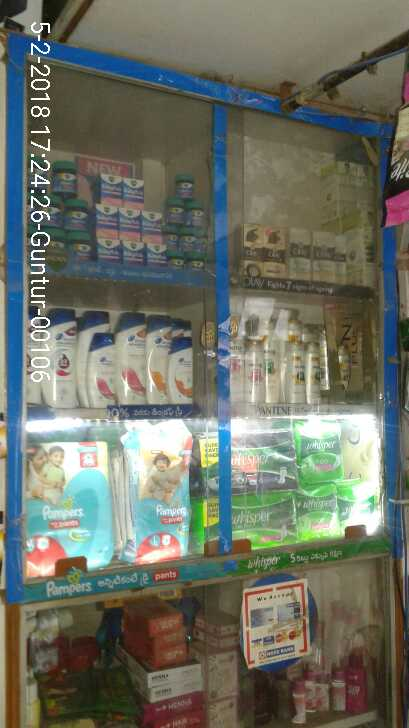beauty: (261, 222, 284, 280), (286, 339, 307, 402), (262, 337, 282, 403), (313, 227, 335, 284), (243, 343, 262, 406), (238, 219, 259, 274), (288, 228, 310, 280), (305, 342, 322, 402)
pharmacy: (25, 430, 109, 577), (126, 413, 194, 562), (231, 429, 298, 488), (230, 495, 296, 545), (294, 421, 346, 480), (296, 486, 339, 536), (45, 159, 77, 192), (95, 170, 121, 206), (65, 232, 93, 265), (95, 237, 123, 265), (139, 210, 162, 244), (96, 205, 119, 239), (119, 208, 142, 241), (65, 203, 89, 234), (174, 172, 197, 202), (181, 203, 207, 229), (122, 173, 143, 205), (163, 198, 184, 225), (179, 233, 205, 252), (122, 241, 142, 262), (148, 242, 164, 264), (163, 231, 177, 251)
